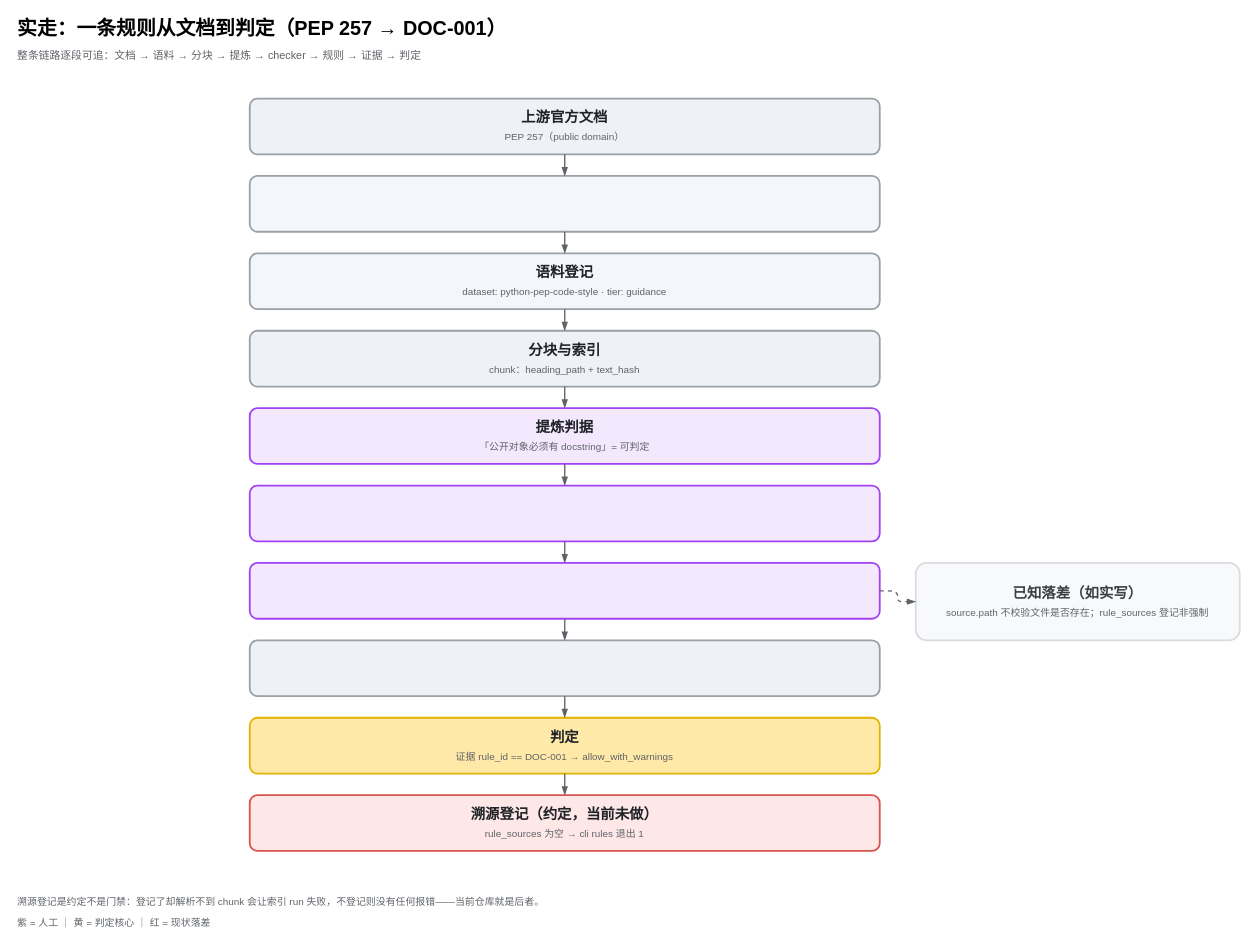
Some shapes in this 1256 by 947 pixel diagram are drawn without their labels. Each missing label, with the centre of its shape:
写规则文件 policies/coding/DOC-001.yaml · severity: warning: [564,590]
声明证据来源 validation/validators.yaml → py.docstring: [564,668]
选 checker missing_docstring（已知 6 个之一）: [564,513]
镜像落盘 docs/python-pep-code-style/pep-257-docstrings/index.md: [564,203]
